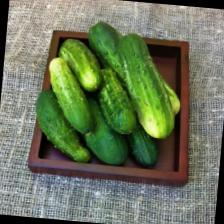cucumber: (110, 32, 182, 142), (30, 88, 96, 164), (43, 55, 100, 136)
